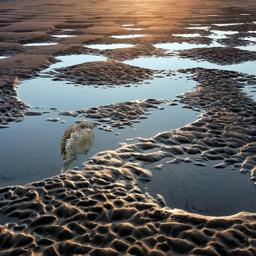Cuckoo: (59, 120, 97, 174)
